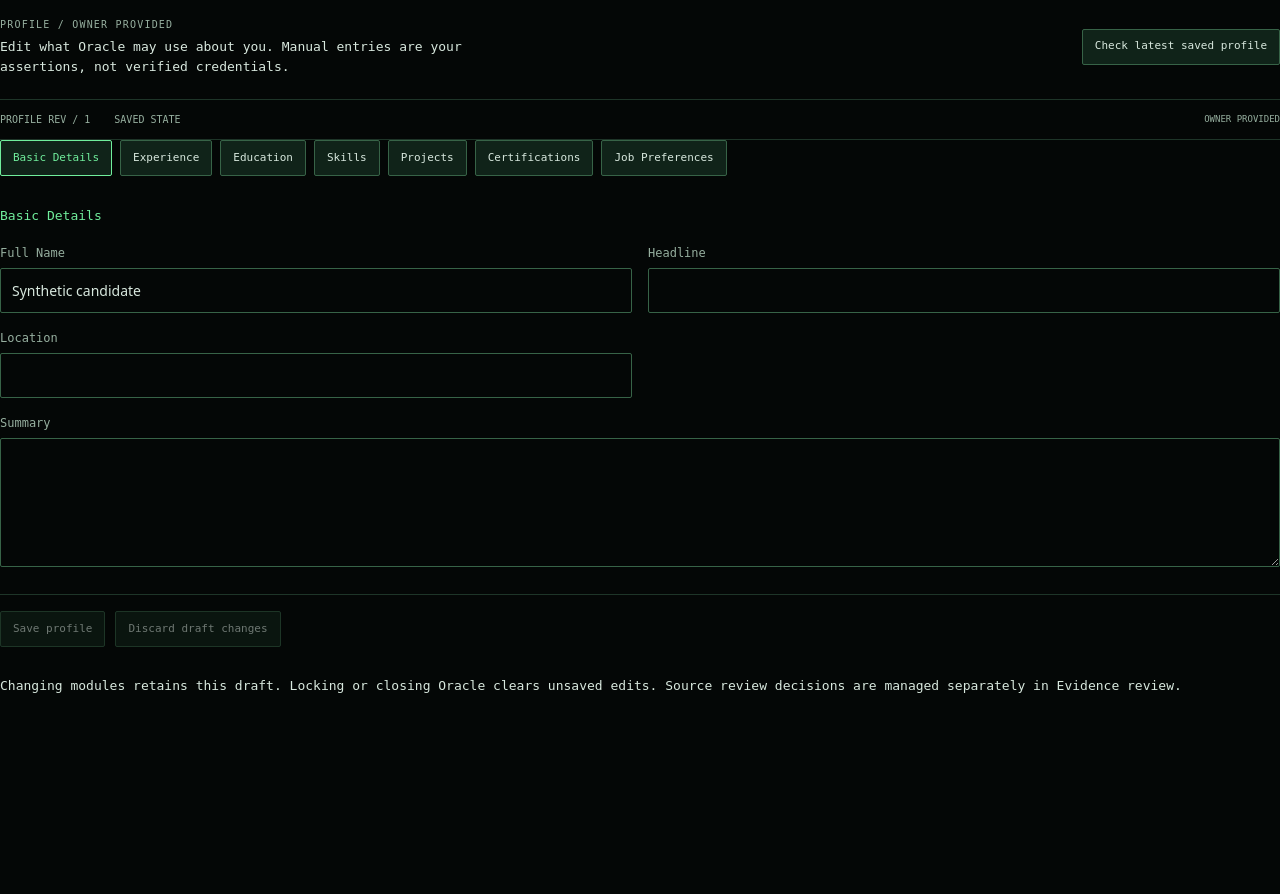
saved profile editor › preserves drafts on conflict and compares latest before explicit replacement
In the field labelled "headline": (964, 290) [648,268,1279,312], type "My unsaved headline"
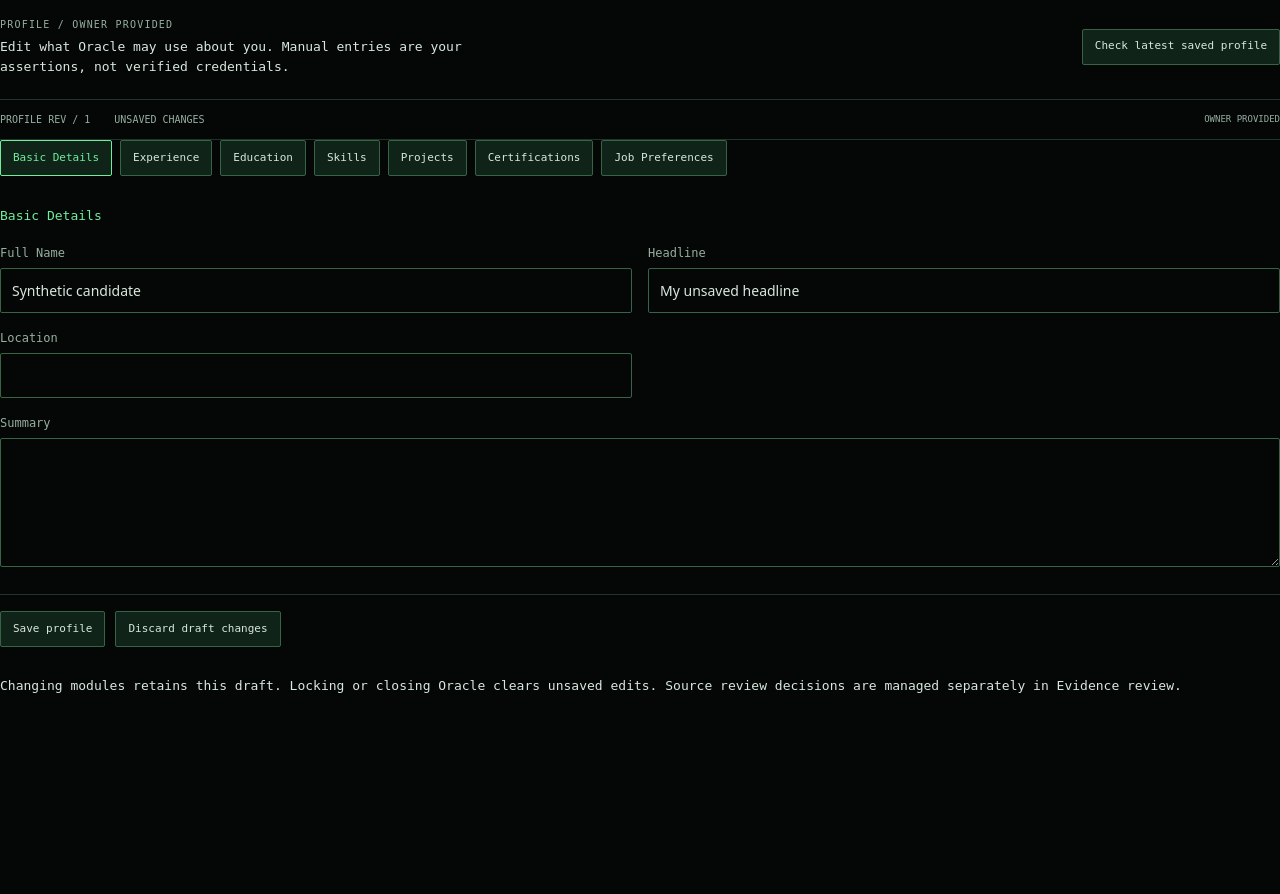
Click the button "Save profile": (53, 629) [0,611,106,647]
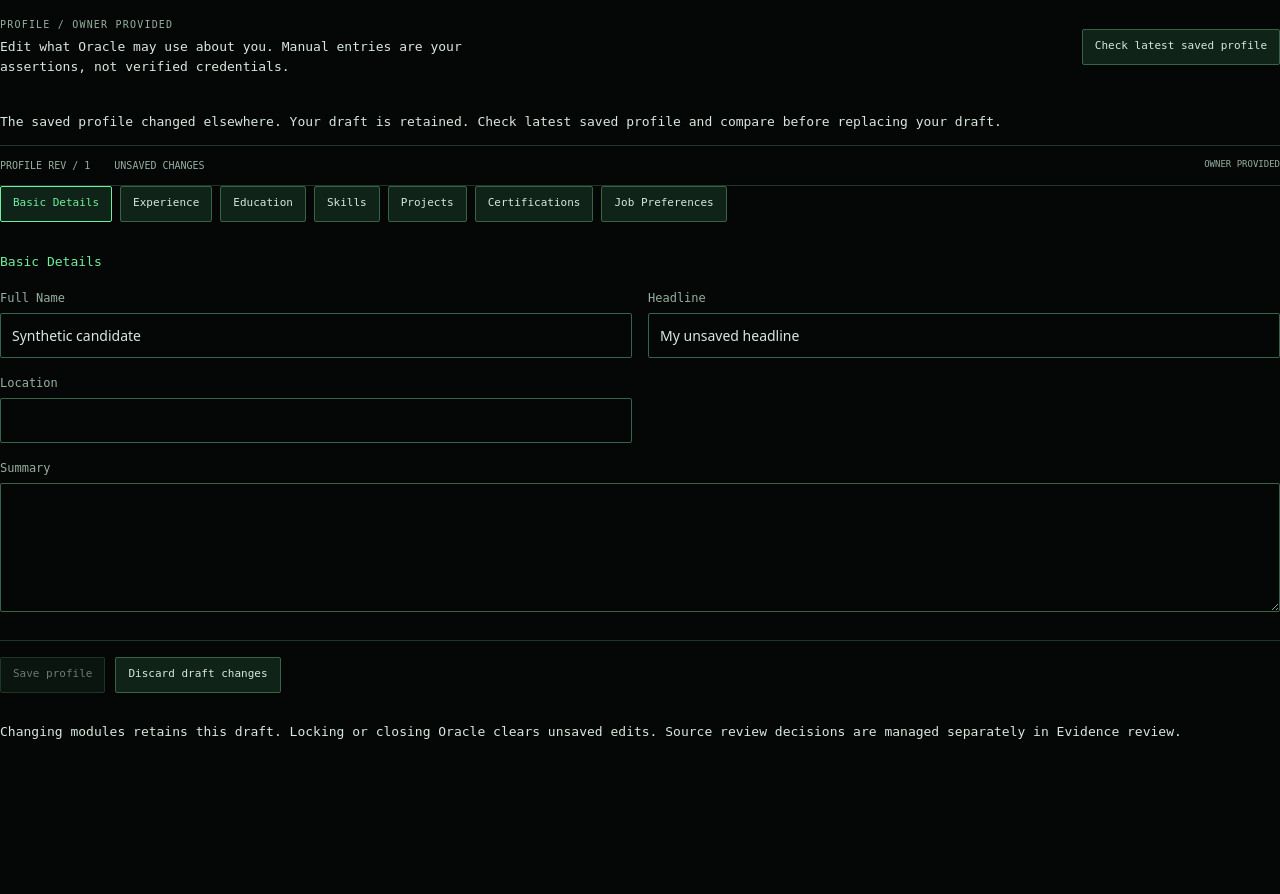
Expected: the message shows "changed elsewhere", [0,114,1002,129]
Click the button "Check latest saved profile": (1181, 46) [1082,28,1279,64]
(page scrolled)
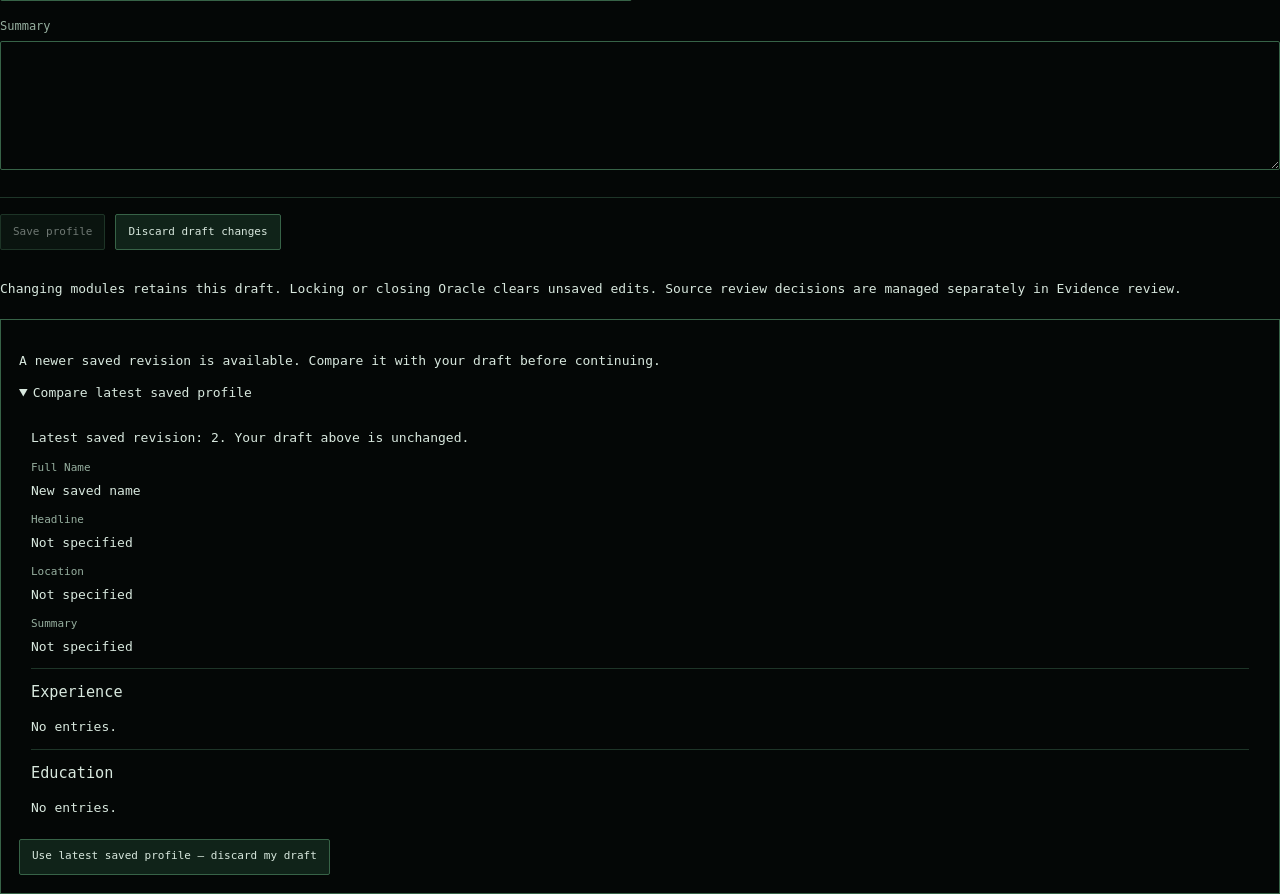
Expected: the button "Save profile" is disabled, [0,214,106,250]
Expected: the text "New saved name" is shown, [31,482,141,498]
Click the button "Use latest saved profile — discard my draft": (174, 856) [19,838,330,874]
(page scrolled)
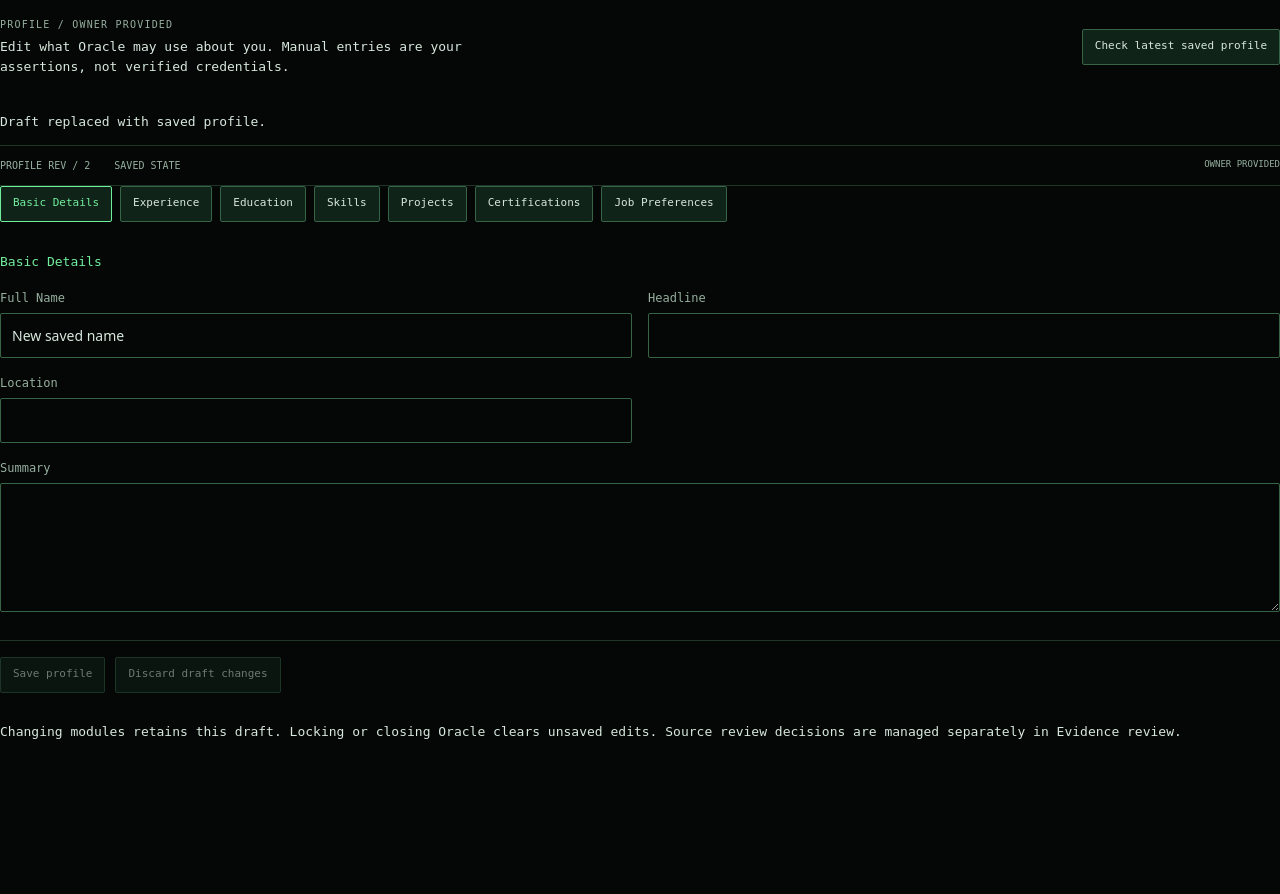
Expected: the field labelled "full name" holds "New saved name", [0,313,632,358]
Expected: the field labelled "headline" is empty, [648,313,1279,358]
